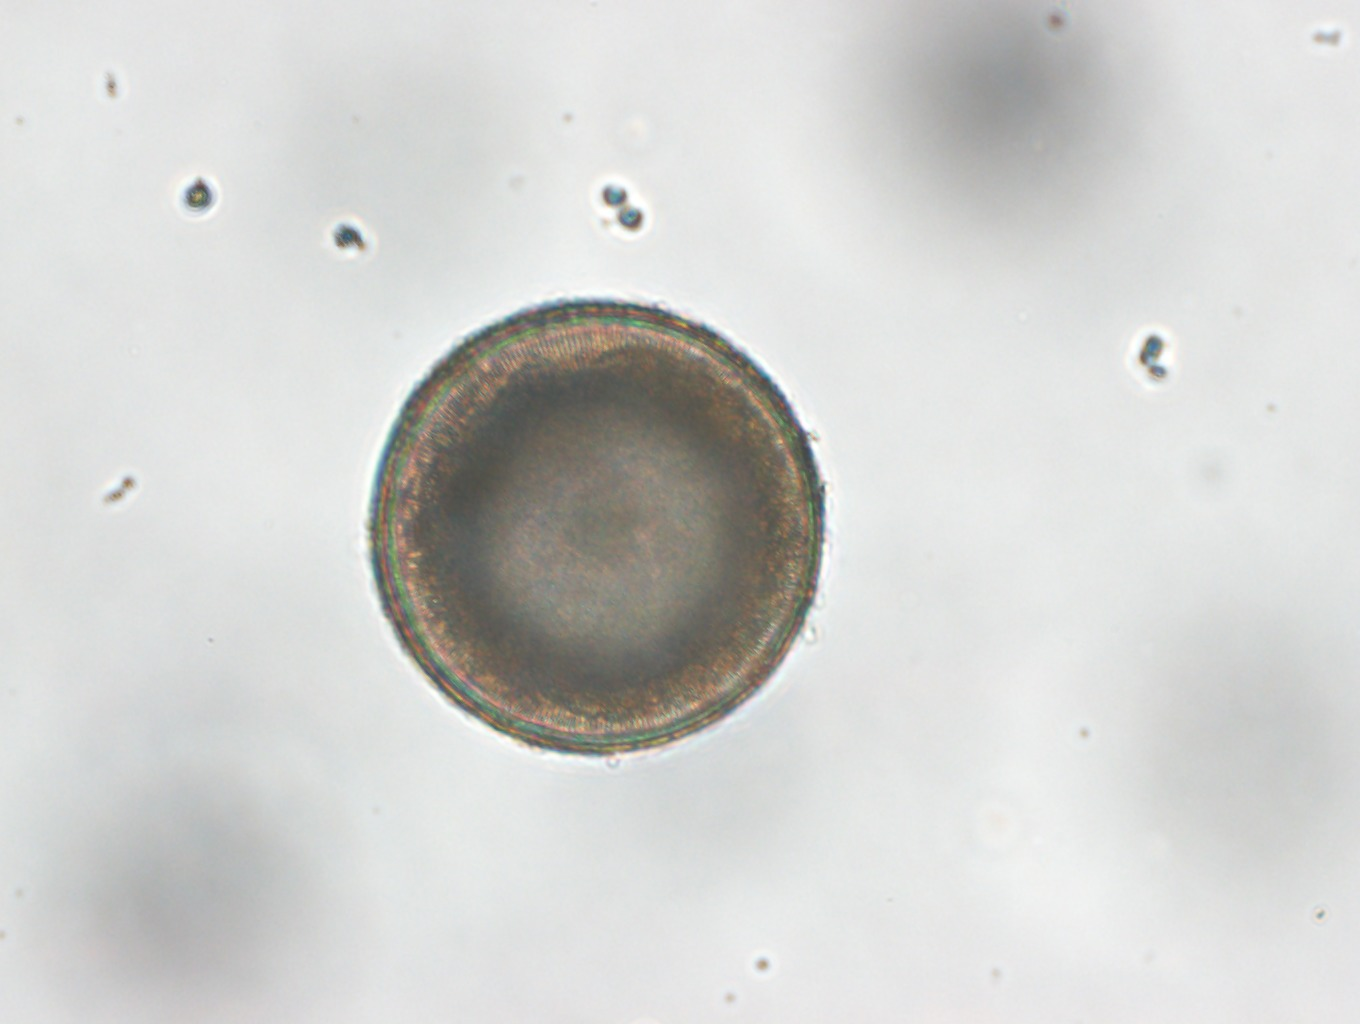coscinodiscus: (366, 297, 826, 758)
